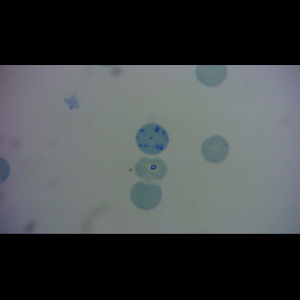aggregate reticulocyte: (134, 122, 170, 156)
erythrocyte: (133, 156, 168, 183)
punctate reticulocyte: (130, 179, 164, 211), (199, 134, 230, 164)
